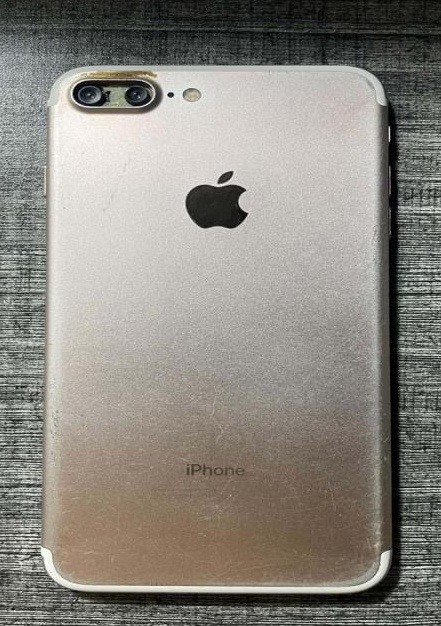physical_damage: (64, 77, 158, 111)
scratch: (287, 340, 377, 394), (100, 159, 133, 212), (319, 456, 340, 517), (364, 428, 386, 484), (365, 491, 382, 556), (204, 386, 223, 442), (44, 407, 62, 462), (200, 489, 236, 512), (79, 68, 160, 77), (80, 548, 120, 562), (85, 500, 109, 518), (361, 74, 377, 92), (62, 204, 68, 212)
